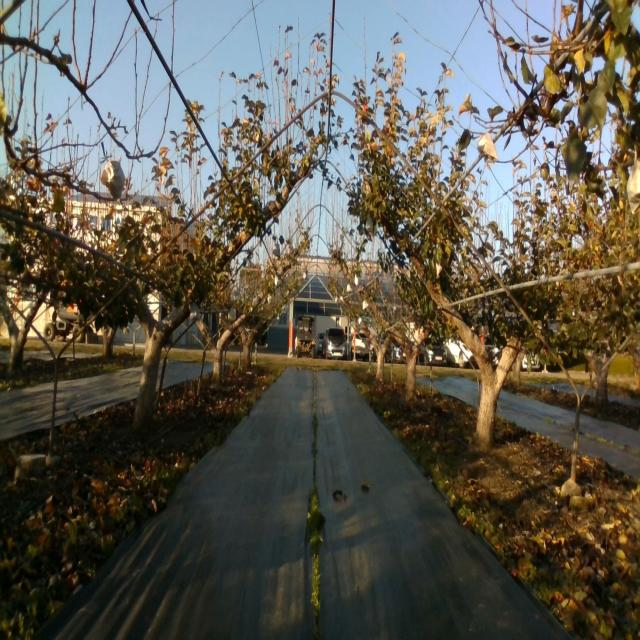pearbags: (100, 154, 126, 202), (477, 131, 498, 161)
